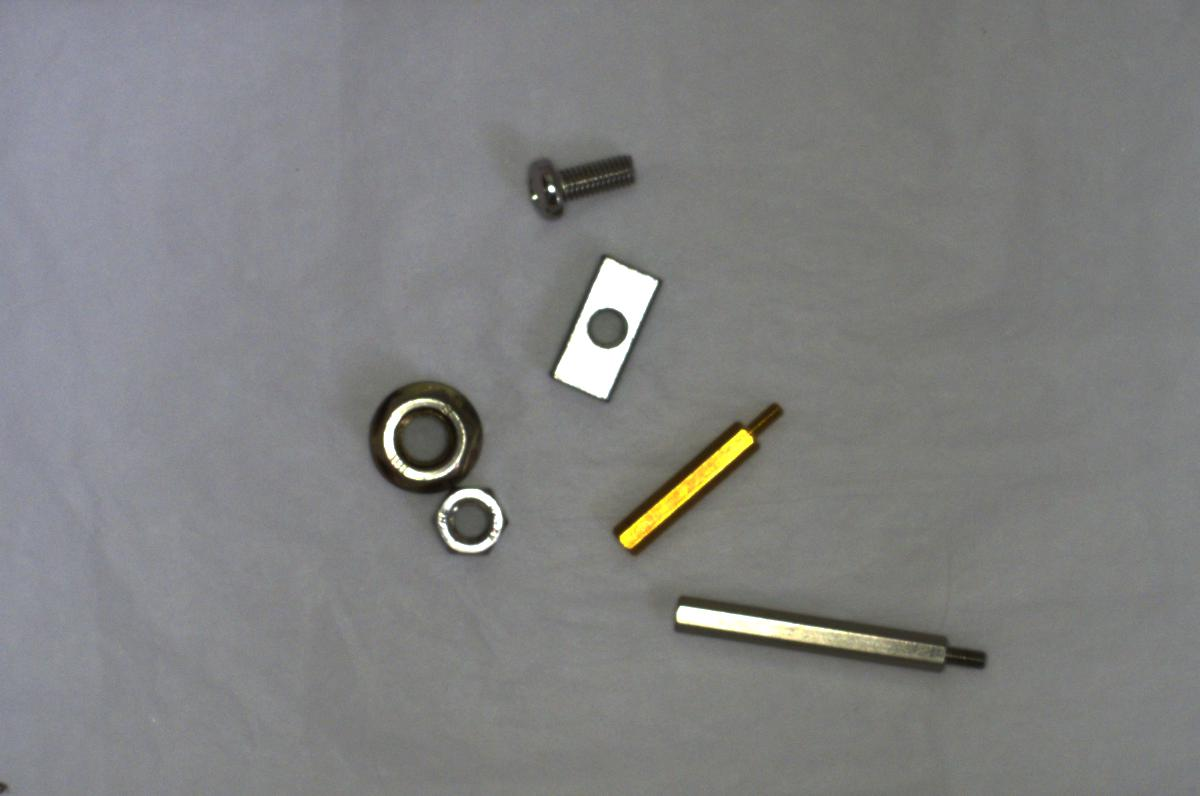Flange nut: (366, 374, 492, 488)
Hexagon nut: (420, 480, 517, 565)
Hexagon pillar: (605, 388, 787, 559)
Hexagonal steel column: (662, 594, 995, 678)
Rectangular nut: (539, 243, 666, 403)
Round head screw: (521, 146, 644, 222)
